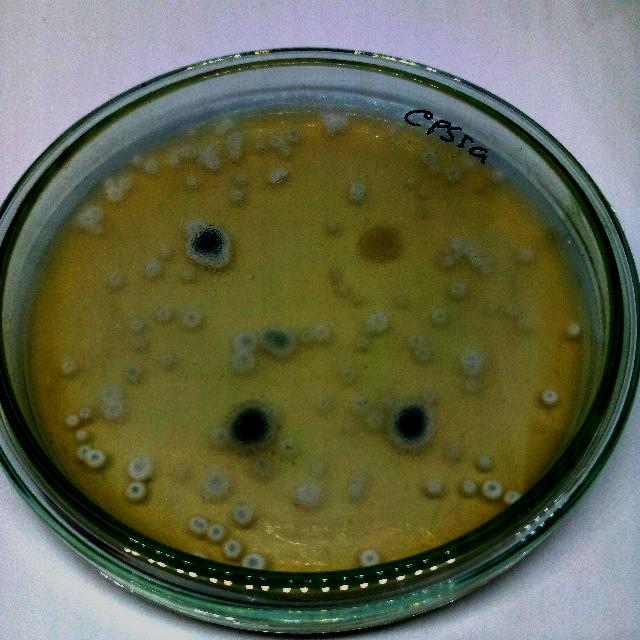colony: (354, 218, 408, 268), (385, 399, 437, 449), (226, 402, 276, 450), (182, 222, 234, 268), (199, 467, 233, 501), (290, 476, 324, 508), (125, 453, 155, 485), (274, 326, 300, 360), (321, 111, 351, 139), (197, 141, 223, 173), (419, 475, 447, 503), (238, 550, 268, 576), (228, 348, 258, 374), (442, 436, 468, 464), (364, 310, 392, 336), (260, 166, 290, 190), (248, 452, 274, 478), (342, 476, 368, 502), (207, 422, 231, 450), (322, 214, 346, 242), (124, 478, 148, 504), (231, 327, 257, 351), (455, 474, 479, 500), (479, 476, 503, 502), (512, 242, 538, 266), (344, 181, 368, 205), (356, 548, 382, 570), (228, 504, 254, 526), (220, 536, 242, 562), (310, 390, 332, 416), (100, 383, 126, 405), (258, 324, 278, 352), (202, 520, 225, 544), (486, 165, 508, 189), (224, 185, 246, 208), (186, 514, 208, 536), (180, 307, 202, 329), (103, 267, 125, 289), (538, 385, 560, 407), (121, 362, 145, 382), (366, 409, 386, 433), (310, 322, 332, 342), (142, 258, 162, 280), (414, 342, 436, 362), (430, 305, 450, 327), (345, 288, 365, 310), (101, 402, 125, 420), (153, 304, 174, 324), (461, 373, 482, 393), (57, 356, 77, 376), (502, 486, 522, 506), (564, 319, 584, 339), (178, 264, 198, 284), (460, 346, 480, 366), (502, 300, 522, 320), (332, 280, 352, 300), (337, 363, 358, 382), (474, 453, 496, 471), (516, 313, 536, 332), (74, 403, 94, 421), (128, 150, 146, 170), (224, 130, 244, 148), (268, 130, 286, 150), (155, 242, 175, 260), (448, 280, 468, 298), (460, 358, 482, 374), (76, 210, 95, 228), (142, 157, 160, 176), (280, 438, 298, 457), (88, 450, 106, 468), (63, 412, 81, 430), (182, 172, 200, 190), (178, 143, 196, 161), (251, 136, 269, 154), (443, 164, 461, 182), (414, 185, 432, 203), (456, 243, 474, 261), (325, 262, 343, 280), (420, 148, 440, 164), (116, 175, 134, 192), (74, 444, 92, 461), (420, 387, 438, 403), (446, 236, 462, 254), (467, 252, 483, 270), (225, 148, 242, 164), (402, 175, 418, 192), (164, 153, 180, 169), (286, 126, 302, 142), (160, 352, 176, 368), (440, 254, 456, 270), (478, 262, 494, 278), (128, 320, 146, 334), (74, 427, 88, 443), (106, 187, 122, 201), (184, 126, 200, 140), (355, 335, 371, 349), (408, 334, 424, 348), (87, 222, 103, 236), (88, 207, 104, 221), (221, 117, 237, 131), (278, 146, 292, 158), (102, 176, 116, 188), (213, 126, 223, 136)
